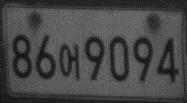0: (108, 36, 130, 82)
4: (156, 37, 180, 83)
6: (34, 33, 57, 79)
8: (11, 33, 33, 78)
9: (132, 36, 155, 83), (84, 36, 105, 81)
어: (57, 42, 82, 81)
